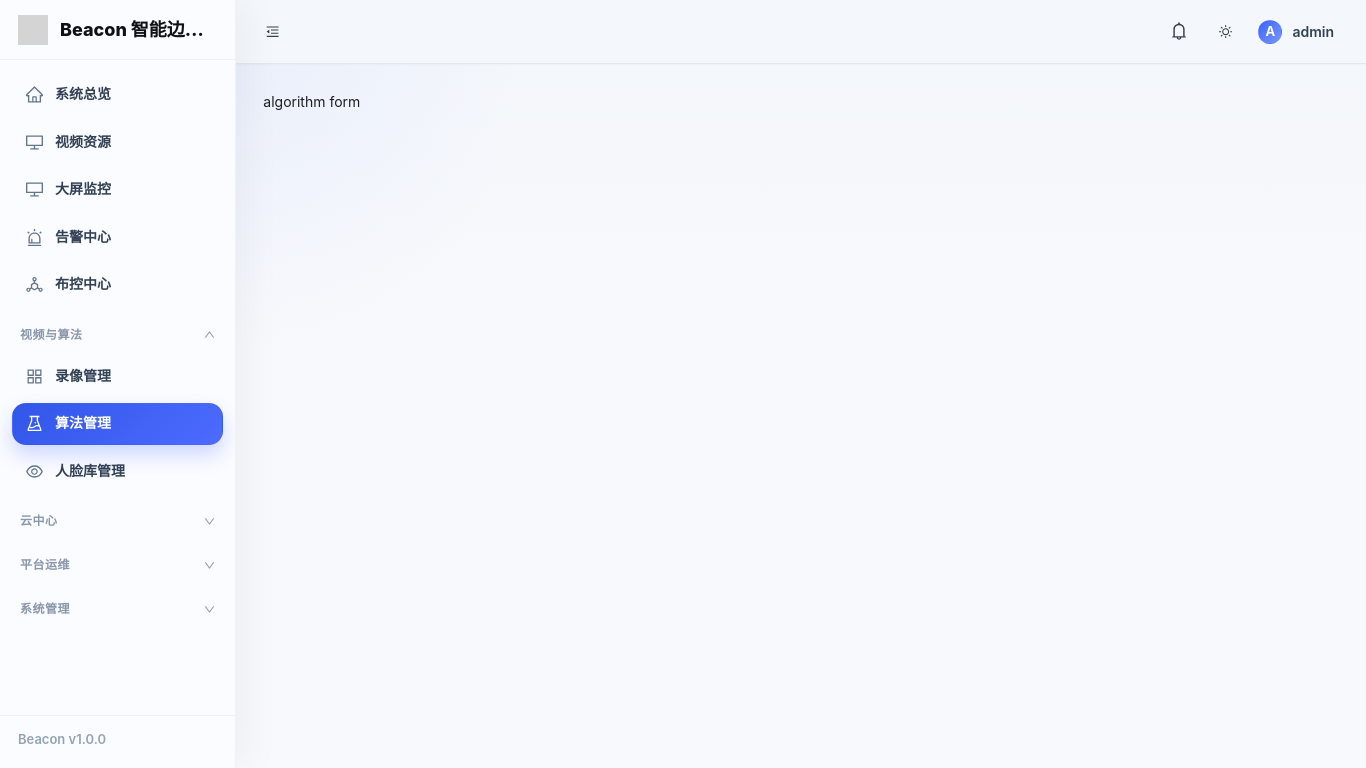
Test: AppLayout › uses the backend project version in the compact sidebar
The image size is (1366, 768).
Click the button named "折叠侧边栏" at (273, 32), box top-left (254, 12), bottom-right (292, 50)
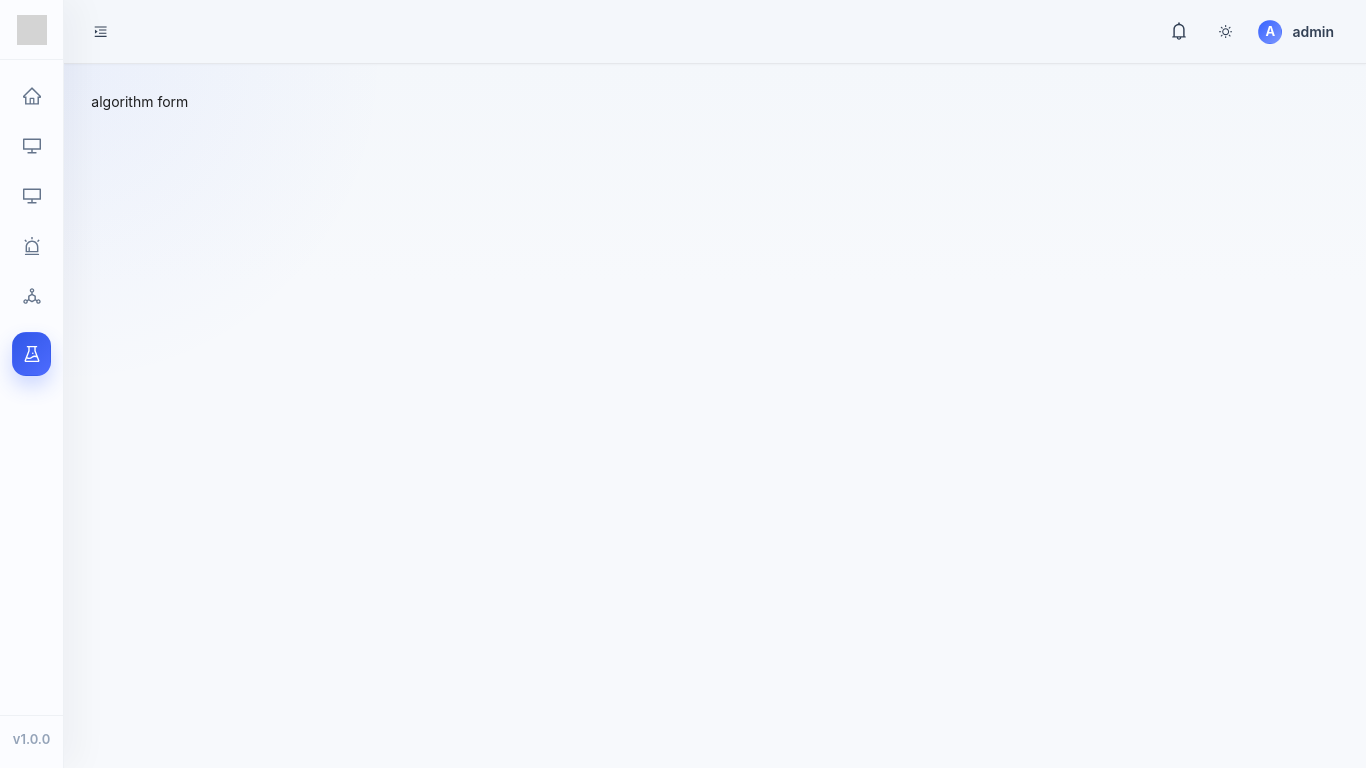
Check: the text "v1.0.0" is shown, box top-left (13, 730), bottom-right (50, 750)
Check: the number of buttons with class "beacon-shell-nav__item" is 6, box top-left (12, 74), bottom-right (51, 118); top-left (12, 124), bottom-right (51, 168); top-left (12, 174), bottom-right (51, 218); top-left (12, 224), bottom-right (51, 268); top-left (12, 274), bottom-right (51, 318); top-left (12, 332), bottom-right (51, 376)
Check: the button "视频与算法" is gone
